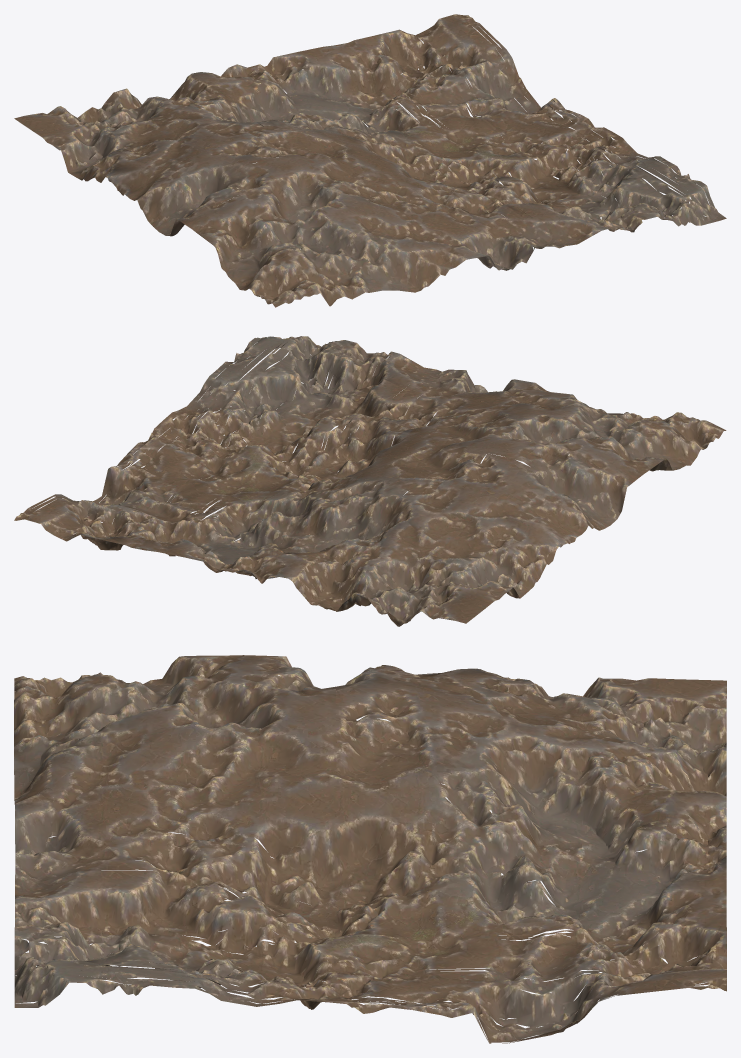
3 views of the same model, one above another, from view 1: azimuth 30°, elevation 25°; view 2: azimuth 150°, elevation 25°; view 3: azimuth 270°, elevation 25° (orthographic). The views are drawn at different scales.
Visible parts, largest first — view 1: Plane__0 (×2); view 2: Plane__0 (×2); view 3: Plane__0 (×2).
Part boxes in pixels (x1,y1,x2,y2): Plane__0 (×2): (14, 14, 726, 307); Plane__0 (×2): (14, 336, 726, 626); Plane__0 (×2): (14, 655, 726, 1043).
Bounding box in the file's own units: 8.72 × 1.57 × 8.73.
Materials: 1 (1 with a texture image).
